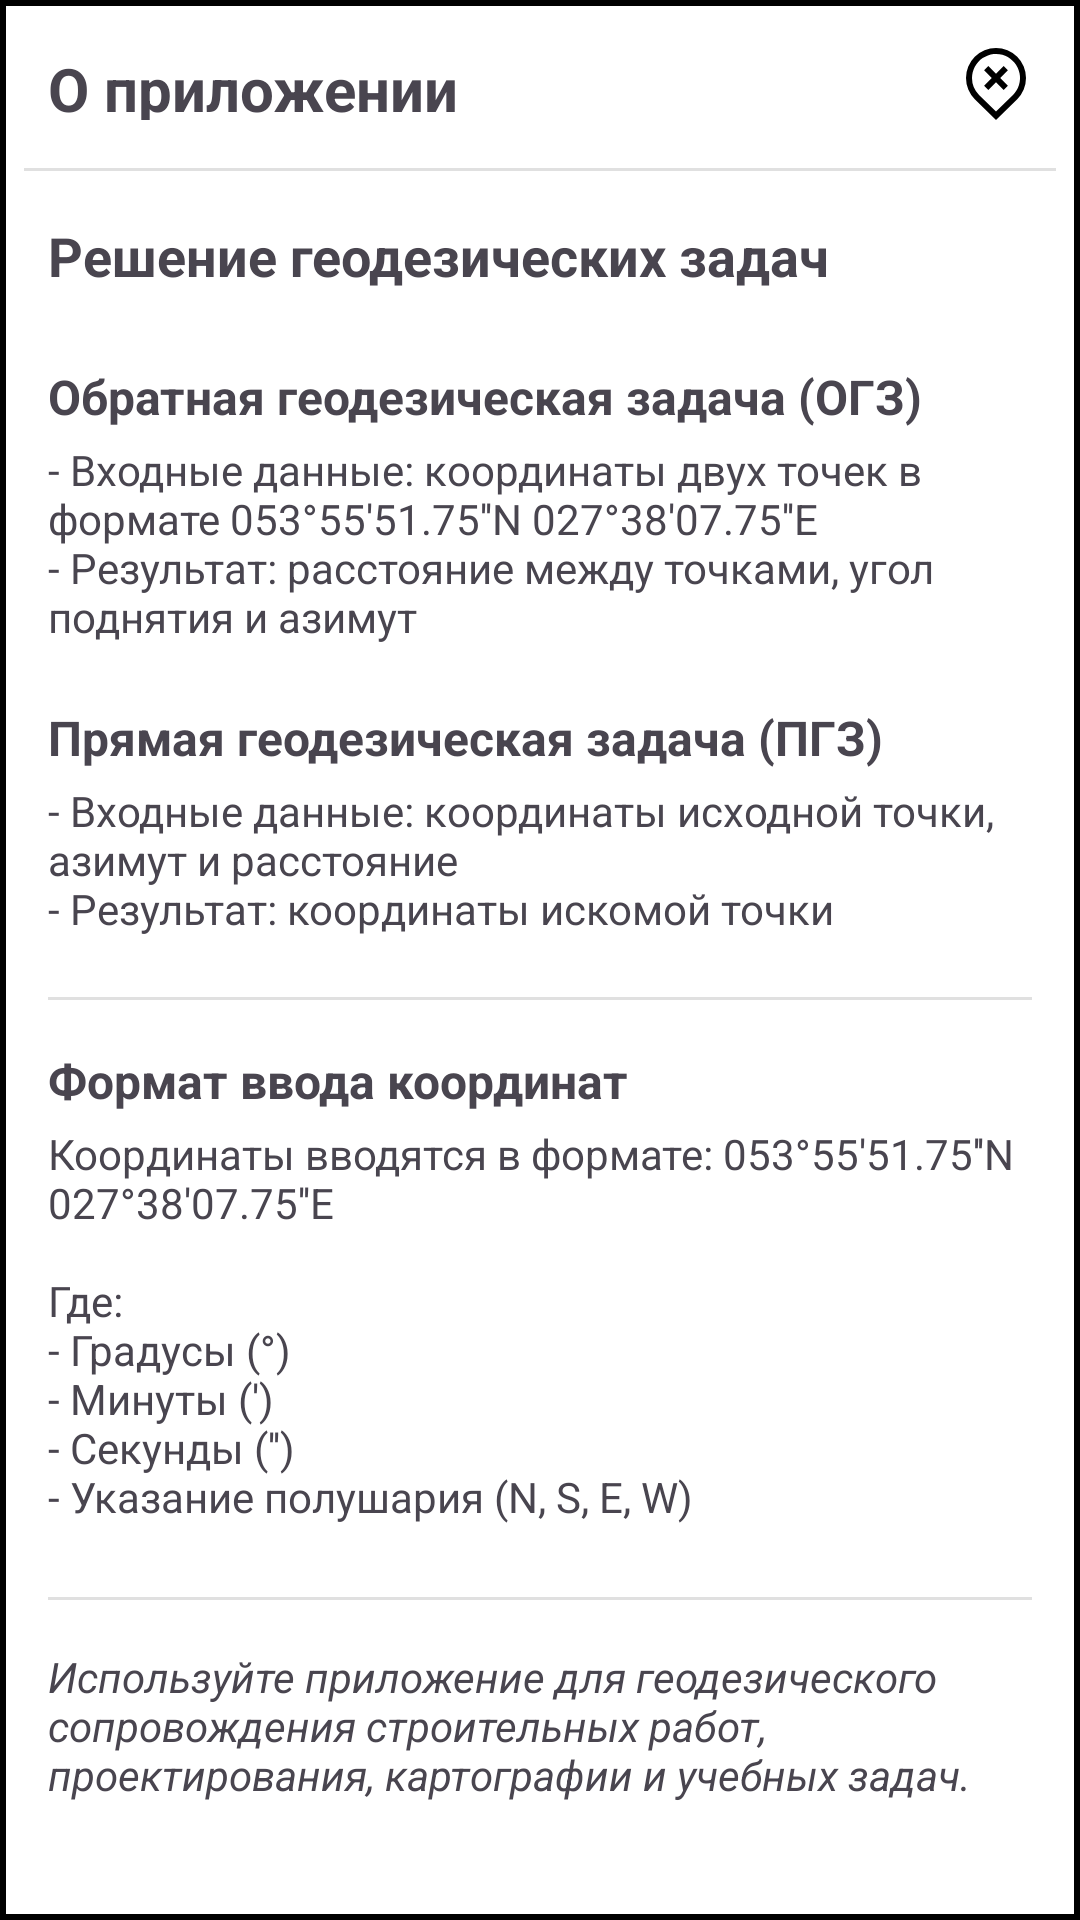

Icon bounding boxes for this 1080 × 1920 phone screenshot, format [x1,y1,x2,y2]:
Закрыть: [966,48,1026,120]
